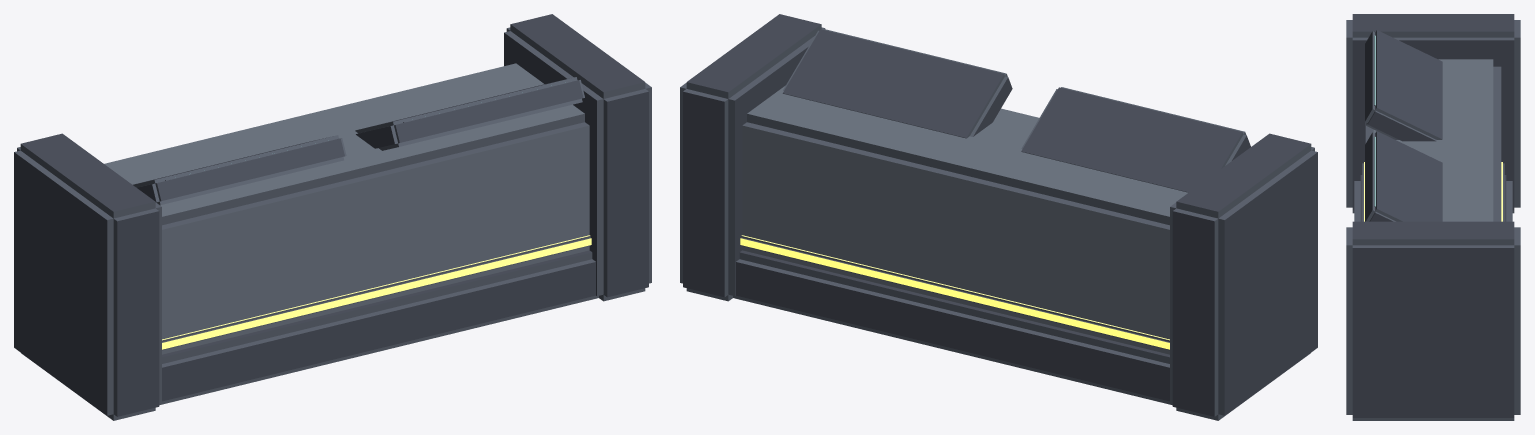
The model's file is TILE_CoverLow.glb.
3 views of the same model, side by side, from view 1: azimuth 30°, elevation 25°; view 2: azimuth 150°, elevation 25°; view 3: azimuth 270°, elevation 25° (orthographic). The views are drawn at different scales.
Visible parts, largest first — view 1: TILE_CoverLow; view 2: TILE_CoverLow; view 3: TILE_CoverLow.
Part boxes in pixels (x1,y1,x2,y2): TILE_CoverLow: (14, 14, 651, 420); TILE_CoverLow: (680, 14, 1317, 420); TILE_CoverLow: (1346, 14, 1520, 420).
Size of the model in its own units: 3.38 by 1.29 by 1.08.
